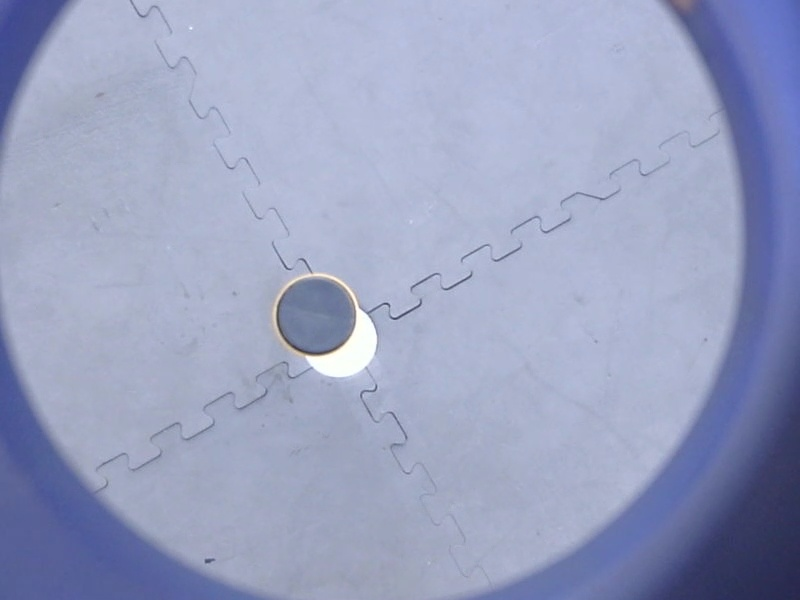tip: (268, 270, 363, 361)
